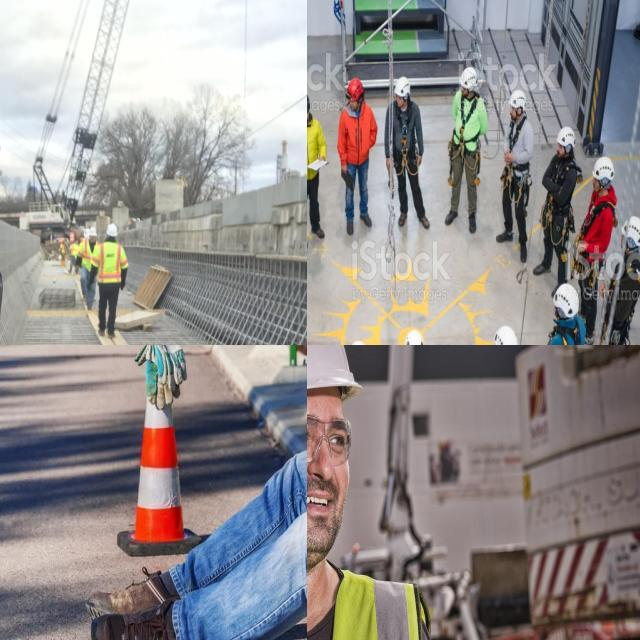Harness: (566, 186, 618, 303), (540, 153, 579, 254), (383, 96, 424, 180), (604, 251, 640, 345), (498, 115, 534, 208), (447, 93, 488, 171), (537, 319, 587, 345)
face_nomask: (307, 388, 358, 555)
glasses: (307, 414, 353, 468)
head_helmet: (307, 345, 363, 417), (105, 223, 121, 239), (89, 226, 96, 238)
person: (96, 345, 307, 640), (307, 345, 457, 640), (0, 0, 120, 345), (98, 222, 131, 336), (79, 220, 98, 307)
shoes: (88, 571, 184, 619), (90, 610, 197, 640)
vest: (97, 243, 132, 286), (78, 240, 100, 269)
